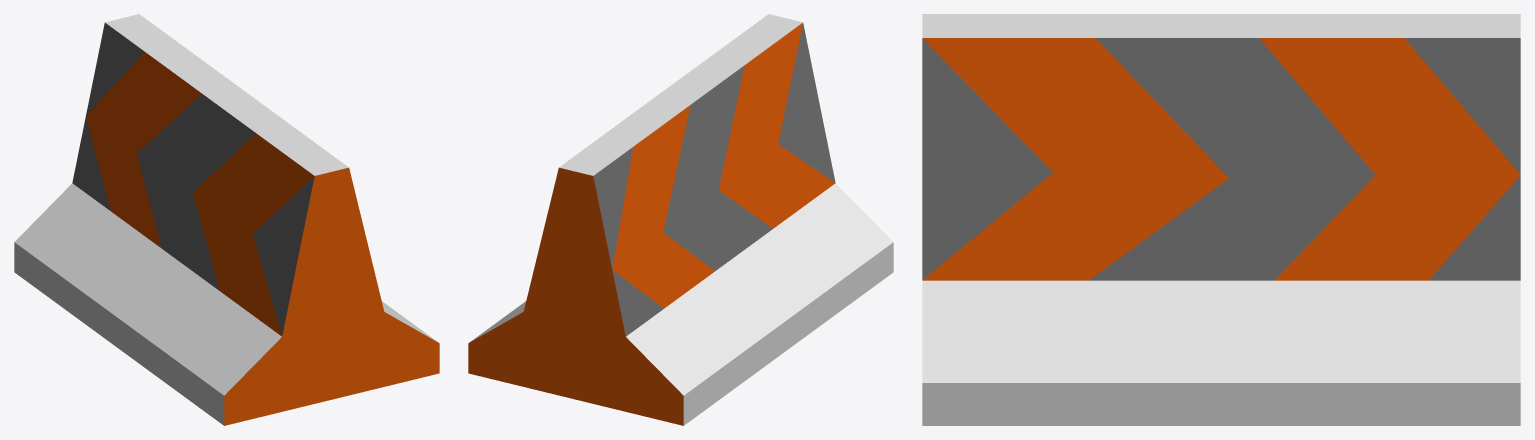
Rendered from barikat_ 1.fbx.
3 views of the same model, side by side, from view 1: azimuth 30°, elevation 25°; view 2: azimuth 150°, elevation 25°; view 3: azimuth 270°, elevation 25° (orthographic). The views are drawn at different scales.
Visible parts, largest first — view 1: Cube; view 2: Cube; view 3: Cube.
Boxes of the visible parts, x1,y1,x2,y2 form: Cube: [14, 14, 439, 425]; Cube: [468, 14, 893, 425]; Cube: [922, 14, 1520, 425].
Bounding box in the file's own units: 455 × 460 × 768.
